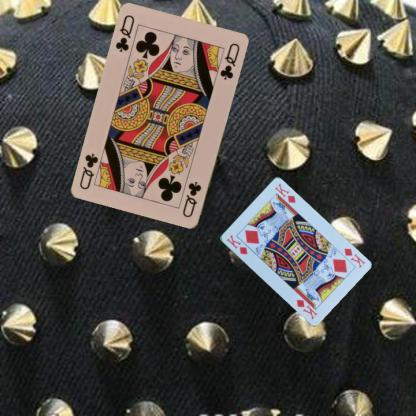Kd: (224, 232, 248, 256), (342, 246, 366, 269)
Qc: (112, 12, 136, 54), (180, 179, 203, 219)
